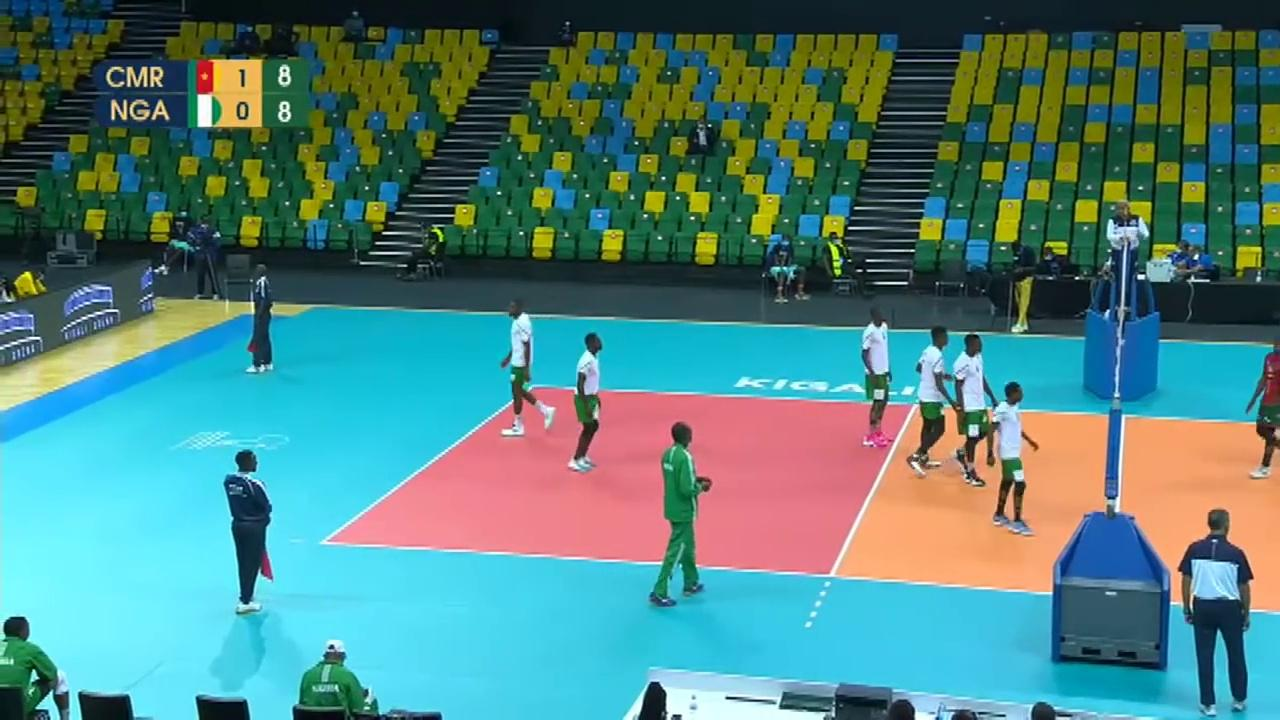player: (983, 383, 1040, 532), (906, 322, 958, 471), (945, 337, 996, 483), (498, 301, 544, 433), (1243, 332, 1280, 477), (566, 336, 604, 471), (858, 310, 893, 445)
refree: (1180, 510, 1255, 715), (224, 452, 278, 608), (1107, 196, 1149, 325), (249, 263, 280, 372)
